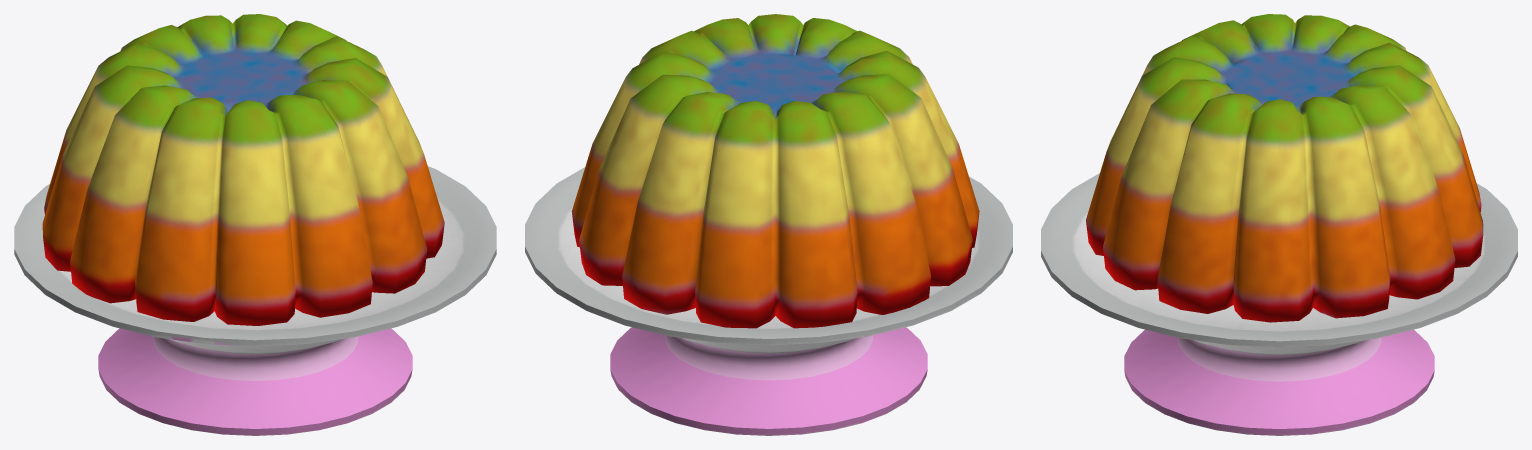
The model's file is jello3.fbx.
3 views of the same model, side by side, from view 1: azimuth 30°, elevation 25°; view 2: azimuth 150°, elevation 25°; view 3: azimuth 270°, elevation 25° (orthographic). The views are drawn at different scales.
Visible parts, largest first — view 1: SM_jelly_blueplate__2_; view 2: SM_jelly_blueplate__2_; view 3: SM_jelly_blueplate__2_.
Part boxes in pixels (left/top/right/bottom): SM_jelly_blueplate__2_: left=14, top=14, right=496, bottom=435; SM_jelly_blueplate__2_: left=525, top=14, right=1012, bottom=435; SM_jelly_blueplate__2_: left=1041, top=14, right=1517, bottom=435.
Bounding box in the file's own units: 27.17 × 19.36 × 27.02.
